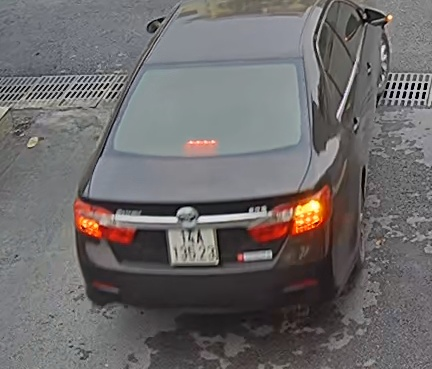vehicle plate: (162, 220, 220, 271)
